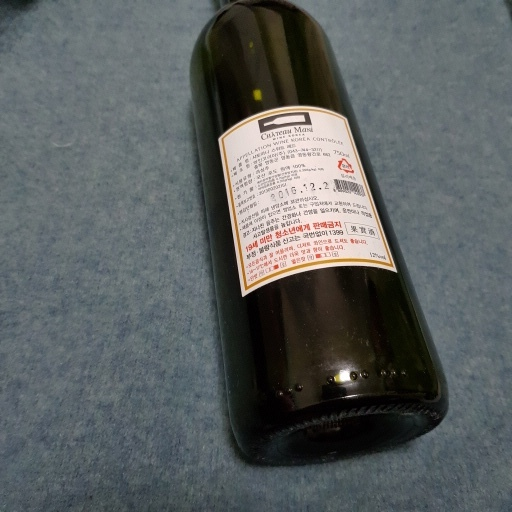Glass_2: (179, 1, 452, 468)
